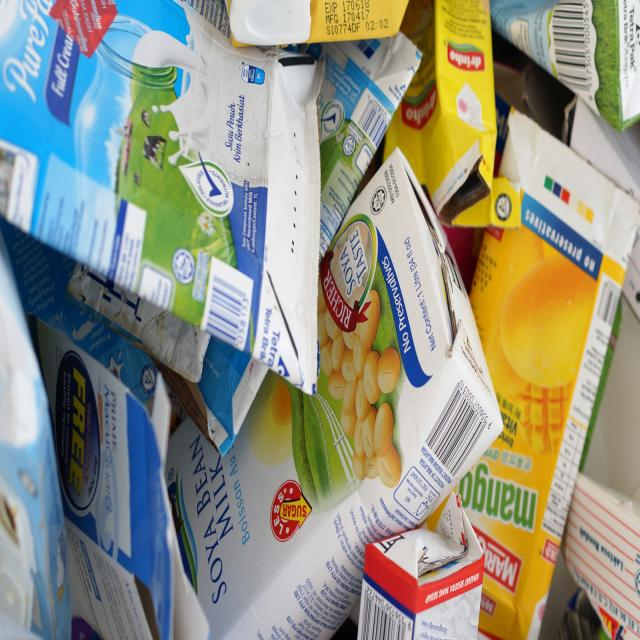cardboard: (179, 156, 503, 640), (0, 0, 324, 404), (0, 249, 319, 640), (464, 108, 640, 640), (326, 0, 519, 247), (494, 0, 640, 134)
